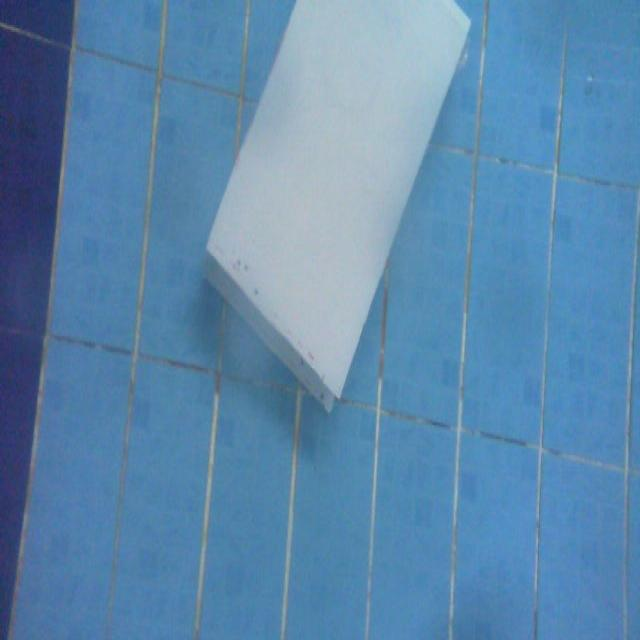Cuboid: (201, 0, 472, 412)
